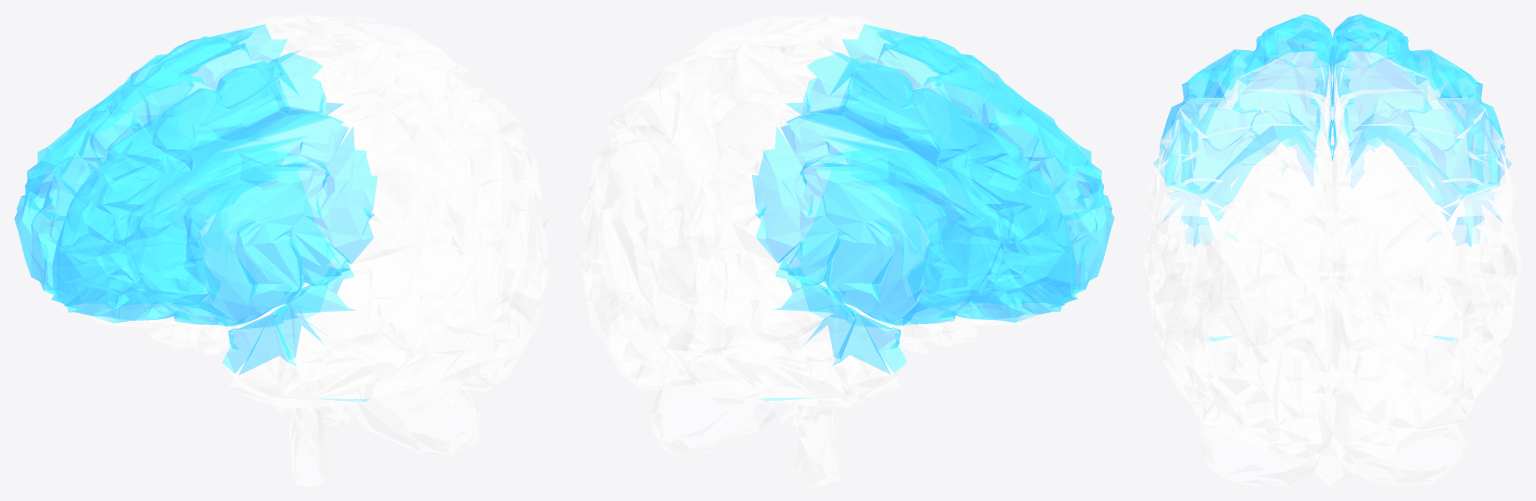
Rendered from action__expression.glb.
3 renders of one model, left to right at view 1: azimuth 30°, elevation 25°; view 2: azimuth 150°, elevation 25°; view 3: azimuth 270°, elevation 25°, orthographic. The views are drawn at different scales.
Visible parts, largest first — view 1: right_08 - Back, right_08 - Front, left_08 - Front, centr_08 - Default_0, left_08 - Back; view 2: left_08 - Back, left_08 - Front, right_08 - Front, centr_08 - Default_0, right_08 - Back; view 3: left_08 - Back, right_08 - Back, centr_08 - Default_0, left_08 - Front, right_08 - Front.
Part boxes in pixels (x1,y1,x2,y2): right_08 - Back: (222,41,550,407); right_08 - Front: (52,50,377,401); left_08 - Front: (14,24,325,328); centr_08 - Default_0: (90,171,479,486); left_08 - Back: (137,14,502,341); left_08 - Back: (579,41,906,406); left_08 - Front: (752,50,1076,400); right_08 - Front: (803,24,1114,326); centr_08 - Default_0: (649,170,1041,486); right_08 - Back: (627,14,991,340); left_08 - Back: (1331,51,1521,461); right_08 - Back: (1143,51,1333,461); centr_08 - Default_0: (1194,138,1468,486); left_08 - Front: (1331,14,1511,342); right_08 - Front: (1153,14,1333,342).
Size of the model in its own units: 5.48 by 5 by 4.05.
Materials: 2 (2 with a texture image).
